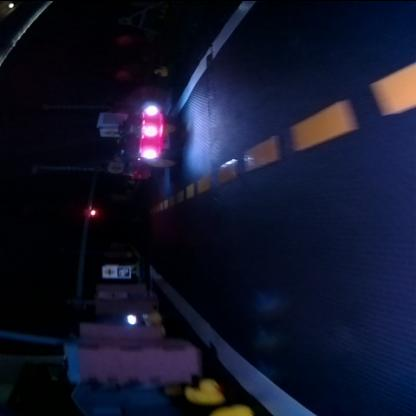Duckie: (184, 376, 222, 402), (210, 404, 252, 416), (154, 65, 168, 75)
Duckiebot: (123, 104, 174, 171)
Intersection sign: (102, 266, 116, 274)
QR code: (116, 265, 129, 277)
Traffic light: (88, 207, 96, 214)
